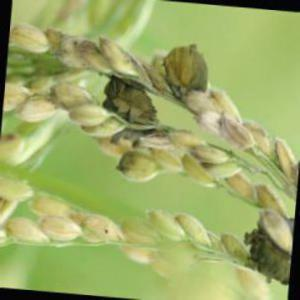Leaf_Scald: (252, 226, 293, 300), (163, 44, 214, 96), (108, 73, 146, 129)
